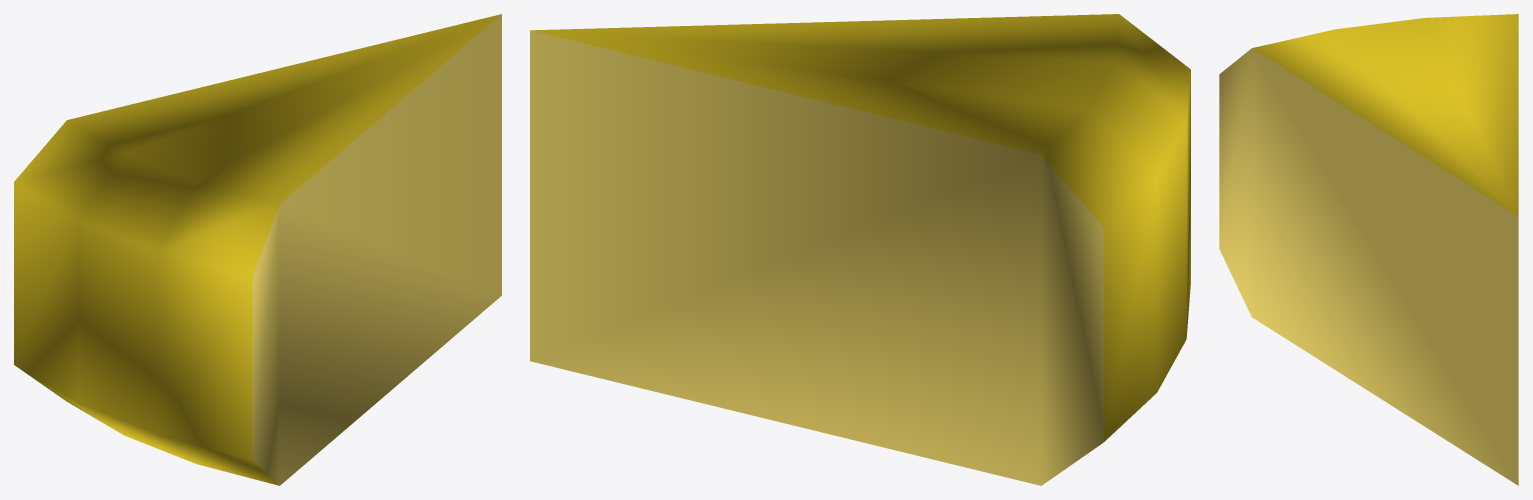
Rendered from cutCheese.dae.
3 renders of one model, left to right at view 1: azimuth 30°, elevation 25°; view 2: azimuth 150°, elevation 25°; view 3: azimuth 270°, elevation 25°, orthographic. The views are drawn at different scales.
Visible parts, largest first — view 1: Cylinder_001; view 2: Cylinder_001; view 3: Cylinder_001.
Part boxes in pixels (x1,y1,x2,y2): Cylinder_001: (14,14,501,485); Cylinder_001: (530,14,1190,485); Cylinder_001: (1219,14,1518,485).
Size of the model in its own units: 1 by 0.5556 by 0.5514.
